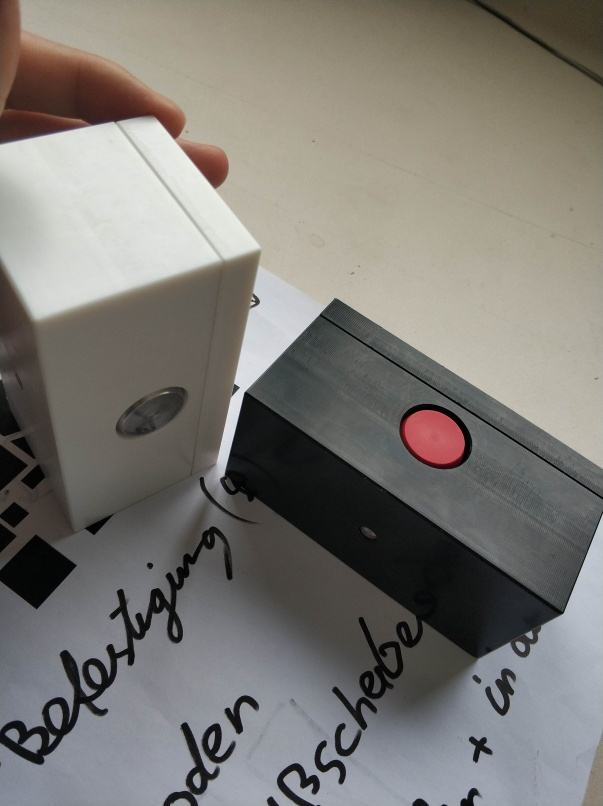black+black+red: (226, 295, 603, 661)
white+white+silver: (1, 112, 262, 540)
